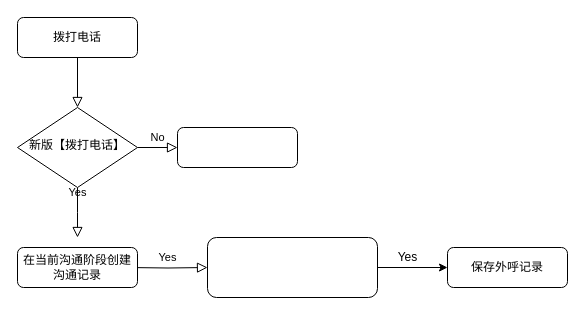
The diagram is 585 pixels wide and 315 high, and some of its shapes have lost their labels. Each missing label, with the centre of its shape:
按照之前的流程走: the point at 237,147
获取跟进记录id,调用外呼接口get_outbound_call_data: the point at 292,267
